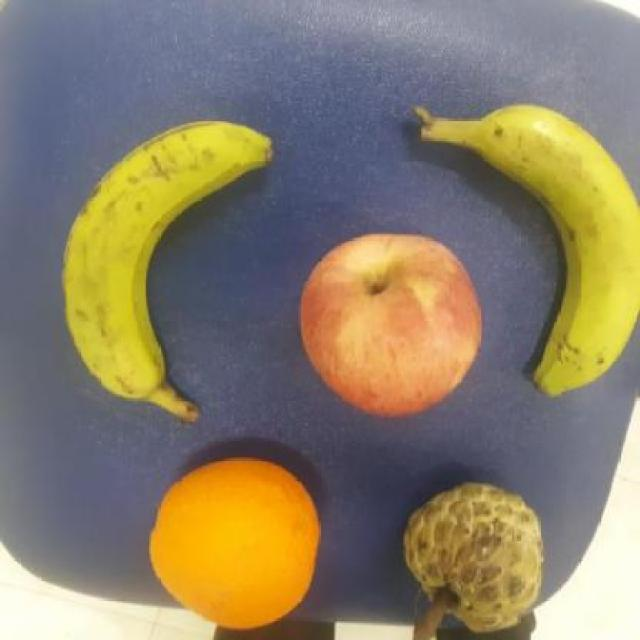apple: (294, 229, 484, 417)
banana: (53, 119, 279, 406), (464, 101, 640, 403)
oren: (146, 457, 322, 631)
sugar apple: (392, 484, 546, 640)
